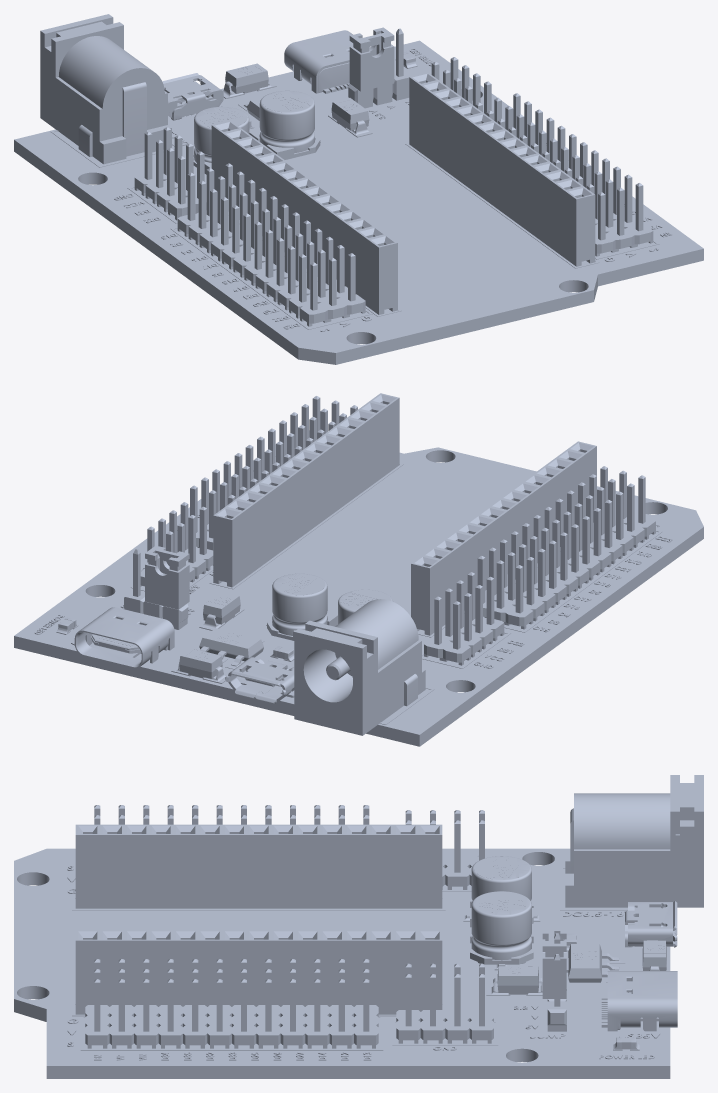
The model's file is CLM_ExpansionBoardESP32_1.dae.
3 views of the same model, one above another, from view 1: azimuth 30°, elevation 25°; view 2: azimuth 150°, elevation 25°; view 3: azimuth 270°, elevation 25° (orthographic). The views are drawn at different scales.
Visible parts, largest first — view 1: node0; view 2: node0; view 3: node0.
Part boxes in pixels (x1,y1,x2,y2): node0: (14,14,703,364); node0: (14,393,703,746); node0: (14,775,703,1078).
Bounding box in the file's own units: 0.0534 × 0.0148 × 0.0717.
